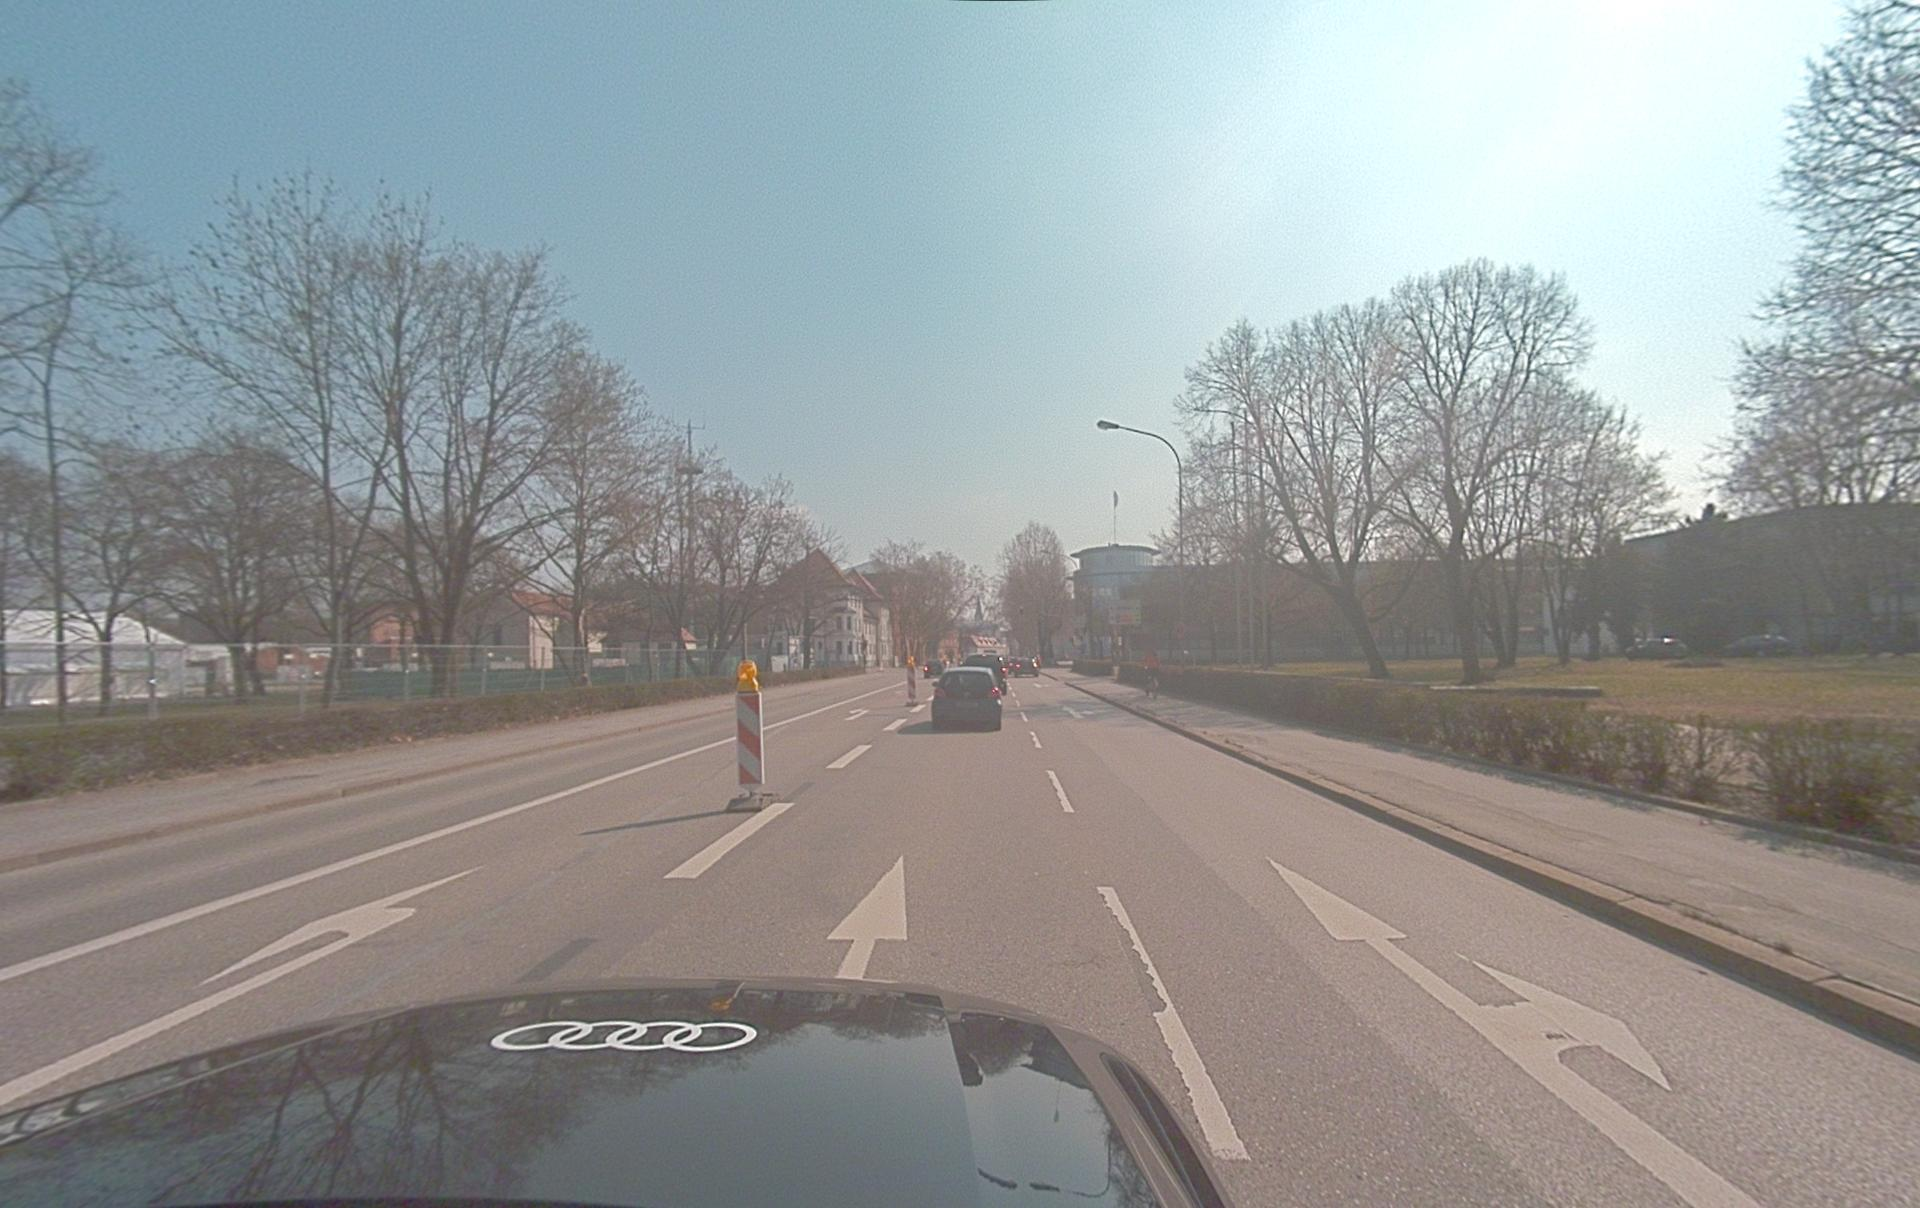car: (0, 976, 1234, 1208), (931, 667, 1003, 732), (963, 654, 1009, 693), (1721, 633, 1791, 658), (1625, 636, 1689, 661)
